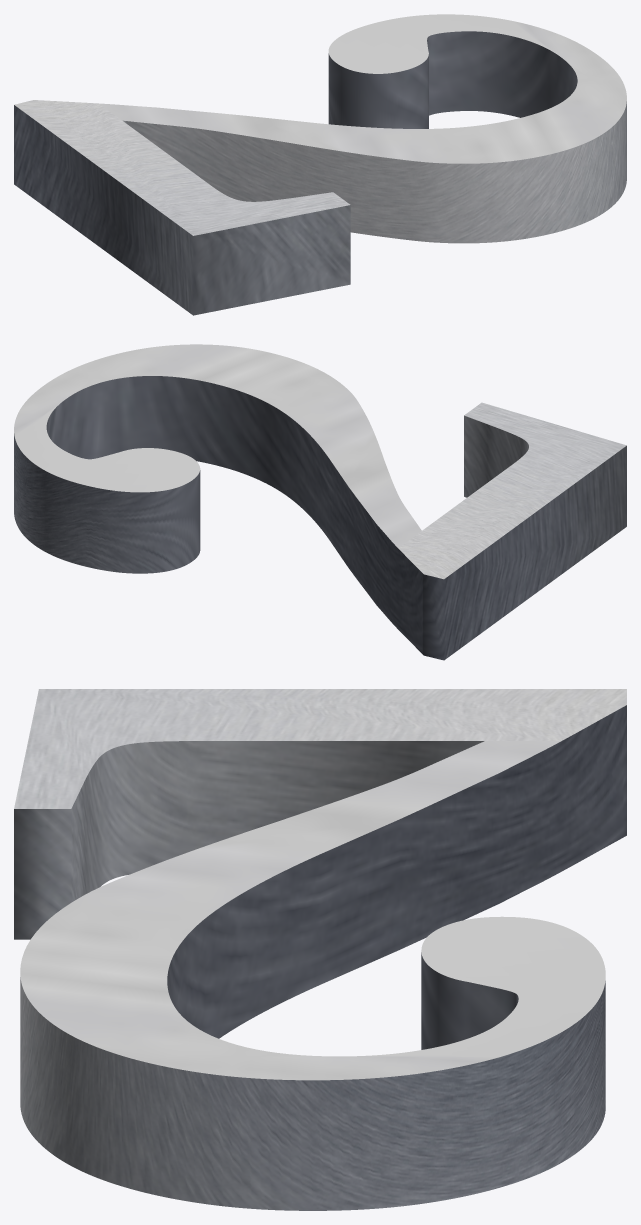
Rendered from number2.obj.
The picture shows the model from 3 angles, top to bottom: view 1: azimuth 30°, elevation 25°; view 2: azimuth 150°, elevation 25°; view 3: azimuth 270°, elevation 25°; orthographic projection. The views are drawn at different scales.
Visible parts, largest first — view 1: Text.024; view 2: Text.024; view 3: Text.024.
Part boxes in pixels (bbox=[...]): Text.024: bbox=[14, 14, 626, 315]; Text.024: bbox=[14, 344, 626, 660]; Text.024: bbox=[14, 689, 626, 1210].
Bounding box in the file's own units: 1.03 × 0.1602 × 0.6814.
